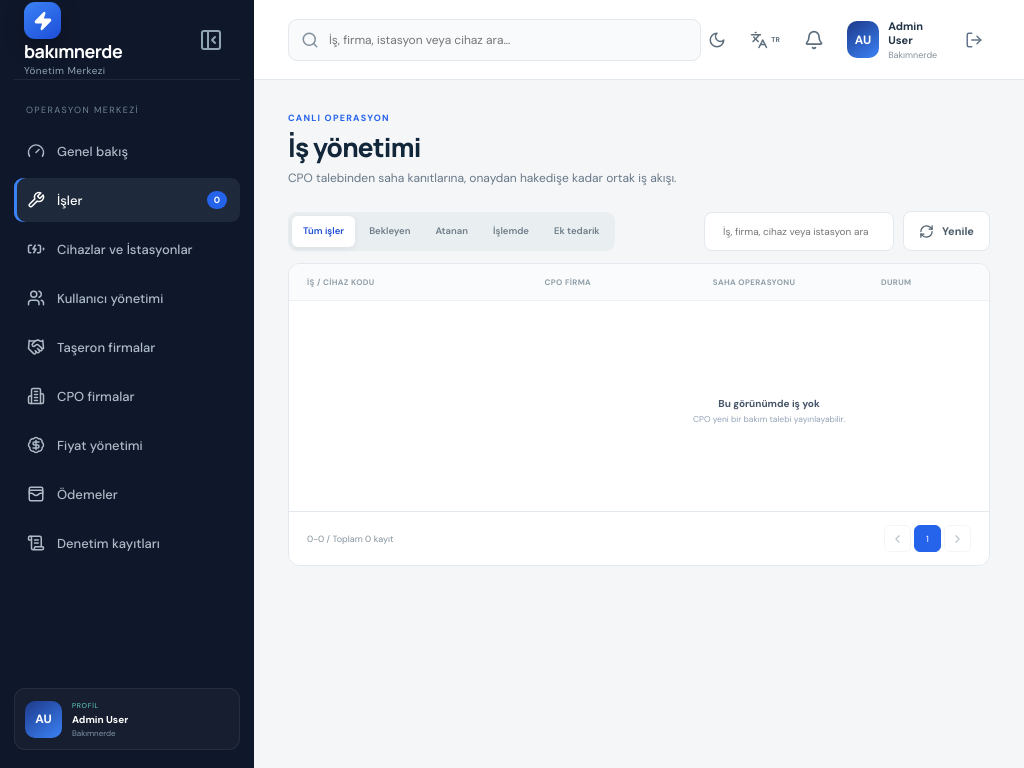
Admin panel auth routing › İşler ekranındaki statik metinleri dil tercihiyle İngilizceye geçirir
Expected: the heading "İş yönetimi" is shown, [288,129,421,165]
Click the button with aria-label "Dili İngilizce yap". click: x=765, y=40
box: [743,24,787,56]
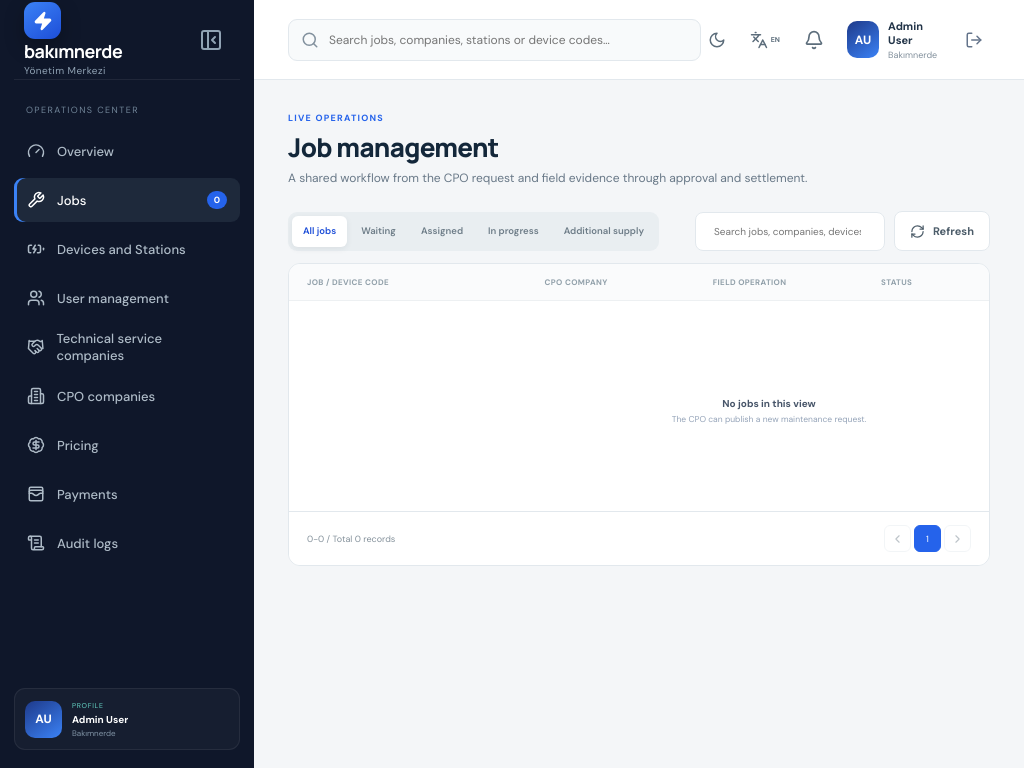
Result: the heading "Job management" is shown at [288,129,499,165]
Result: the button "Refresh" is shown at [894,211,990,251]
Result: the button "All jobs" is shown at [292,216,347,247]
